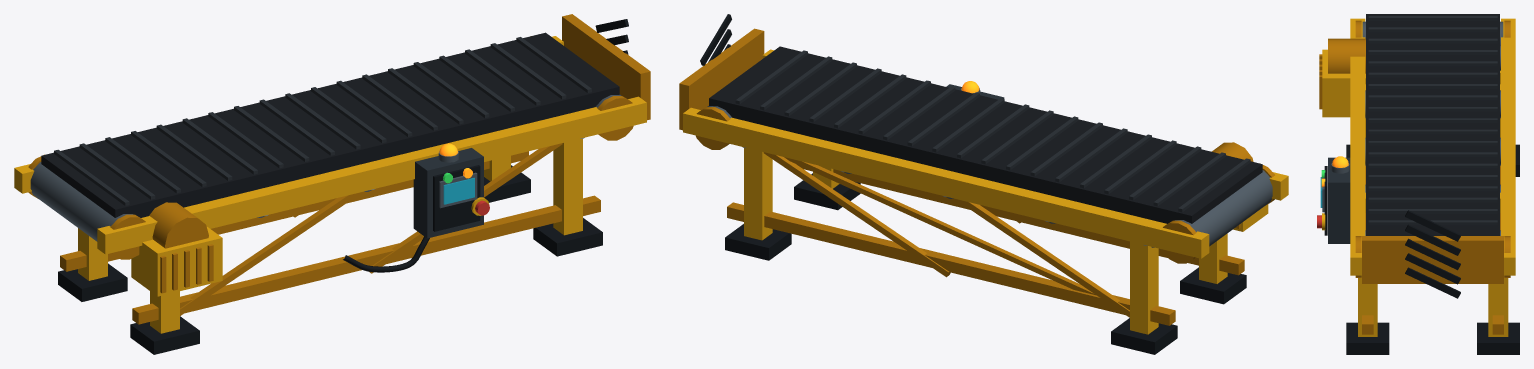
Rendered from asset.glb.
3 views of the same model, side by side, from view 1: azimuth 30°, elevation 25°; view 2: azimuth 150°, elevation 25°; view 3: azimuth 270°, elevation 25° (orthographic). The views are drawn at different scales.
Parts seen in each view (by area): view 1: Main_Rubber_Belt, Longitudinal_Beam_1, Lower_Tie_1, Hazard_Plate_Backplate, Motor_Body, End_Drum_-1, Control_Panel_Body, Support_Leg_2.55_0.79, Lower_Tie_-1, Diagonal_Brace_A_1, Motor_Gearbox, Leveling_Foot_-2.55_0.79 (+31 smaller); view 2: Main_Rubber_Belt, Longitudinal_Beam_-1, Lower_Tie_-1, Hazard_Plate_Backplate, Lower_Tie_1, Central_Lower_Brace, End_Drum_-1, Support_Leg_-2.55_-0.79, Support_Leg_2.55_-0.79, Diagonal_Brace_B_-1, Diagonal_Brace_A_-1, Leveling_Foot_-2.55_-0.79 (+26 smaller); view 3: Main_Rubber_Belt, Hazard_Plate_Backplate, Longitudinal_Beam_-1, Longitudinal_Beam_1, Control_Panel_Body, Motor_Body, Leveling_Foot_2.55_0.79, Leveling_Foot_2.55_-0.79, Motor_Gearbox, Support_Leg_2.55_-0.79, Support_Leg_2.55_0.79, Belt_Rib_1 (+26 smaller).
Part boxes in pixels (box(x1,y1,x2,y2)): Main_Rubber_Belt: box(41, 32, 619, 217); Longitudinal_Beam_1: box(97, 96, 646, 254); Lower_Tie_1: box(132, 195, 600, 324); Hazard_Plate_Backplate: box(562, 14, 650, 120); Motor_Body: box(131, 227, 222, 296); End_Drum_-1: box(30, 162, 133, 241); Control_Panel_Body: box(413, 148, 483, 238); Support_Leg_2.55_0.79: box(553, 139, 582, 235); Lower_Tie_-1: box(60, 151, 528, 271); Diagonal_Brace_A_1: box(180, 192, 362, 315); Motor_Gearbox: box(149, 202, 208, 248); Leveling_Foot_-2.55_0.79: box(130, 316, 199, 354); Main_Rubber_Belt: box(709, 46, 1262, 223); Longitudinal_Beam_-1: box(683, 107, 1209, 258); Lower_Tie_-1: box(727, 202, 1175, 325); Hazard_Plate_Backplate: box(679, 28, 764, 130); Lower_Tie_1: box(796, 164, 1244, 275); Central_Lower_Brace: box(784, 157, 1095, 295); End_Drum_-1: box(1174, 170, 1272, 246); Support_Leg_-2.55_-0.79: box(1130, 241, 1158, 334); Support_Leg_2.55_-0.79: box(744, 148, 772, 240); Diagonal_Brace_B_-1: box(763, 152, 950, 277); Diagonal_Brace_A_-1: box(954, 198, 1129, 317); Leveling_Foot_-2.55_-0.79: box(1111, 318, 1177, 354); Main_Rubber_Belt: box(1366, 14, 1499, 235); Hazard_Plate_Backplate: box(1362, 236, 1503, 283); Longitudinal_Beam_-1: box(1501, 18, 1515, 275); Longitudinal_Beam_1: box(1350, 18, 1365, 275); Control_Panel_Body: box(1328, 157, 1350, 243); Motor_Body: box(1322, 49, 1365, 117); Leveling_Foot_2.55_0.79: box(1346, 322, 1389, 354); Leveling_Foot_2.55_-0.79: box(1477, 322, 1519, 354); Motor_Gearbox: box(1328, 38, 1365, 73); Support_Leg_2.55_-0.79: box(1488, 276, 1508, 336); Support_Leg_2.55_0.79: box(1358, 276, 1377, 336); Belt_Rib_1: box(1368, 27, 1497, 32).
Size of the model in its own units: 7.01 by 2.26 by 2.45.
